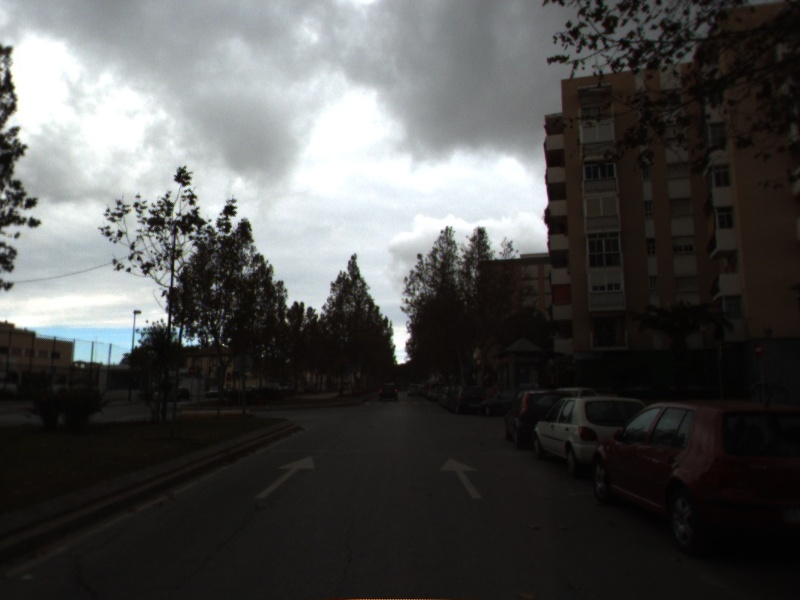STRAIGHT: (253, 453, 317, 501), (437, 454, 485, 501)
